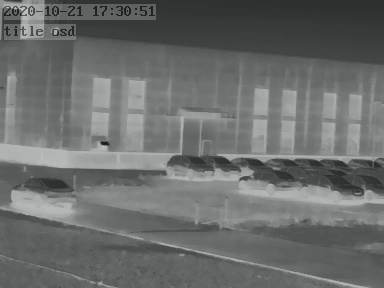vehicle: (9, 177, 74, 209), (301, 174, 362, 201), (238, 172, 302, 194), (164, 152, 213, 179), (348, 173, 383, 200), (205, 153, 242, 177), (232, 154, 270, 172), (346, 156, 380, 171), (261, 155, 296, 169), (317, 156, 347, 170), (295, 156, 325, 169)
